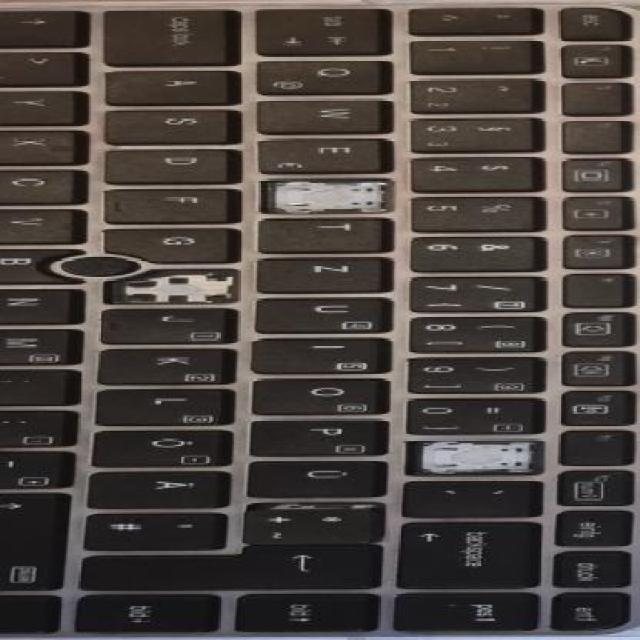Keyboard problems: (406, 440, 543, 474), (106, 269, 238, 303), (266, 180, 391, 212)
